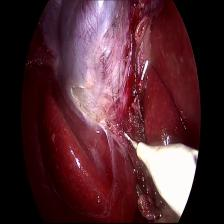Hook: (118, 124, 201, 209)
